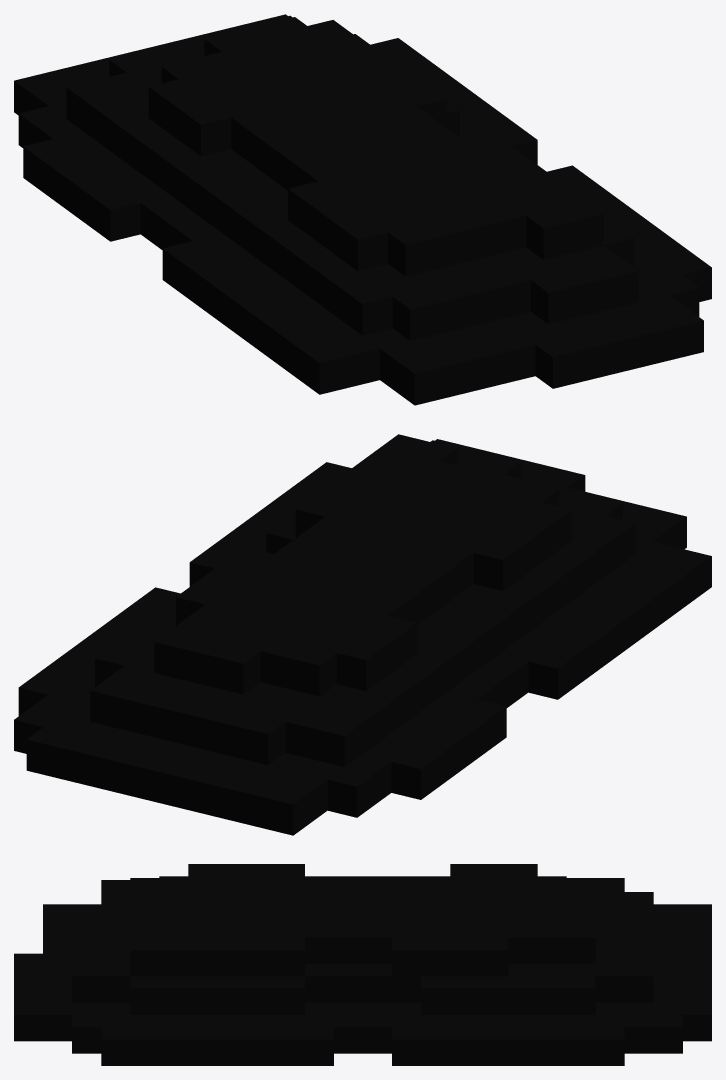
The model's file is church-74-gy_dirtgrave.glb.
3 views of the same model, one above another, from view 1: azimuth 30°, elevation 25°; view 2: azimuth 150°, elevation 25°; view 3: azimuth 270°, elevation 25° (orthographic). The views are drawn at different scales.
Visible parts, largest first — view 1: gy_dirtgrave; view 2: gy_dirtgrave; view 3: gy_dirtgrave.
Part boxes in pixels (bbox=[...]): gy_dirtgrave: bbox=[14, 14, 711, 405]; gy_dirtgrave: bbox=[14, 434, 711, 835]; gy_dirtgrave: bbox=[14, 864, 711, 1065].
Size of the model in its own units: 1.3 by 0.3 by 2.4.
1 material, 1 textured.
